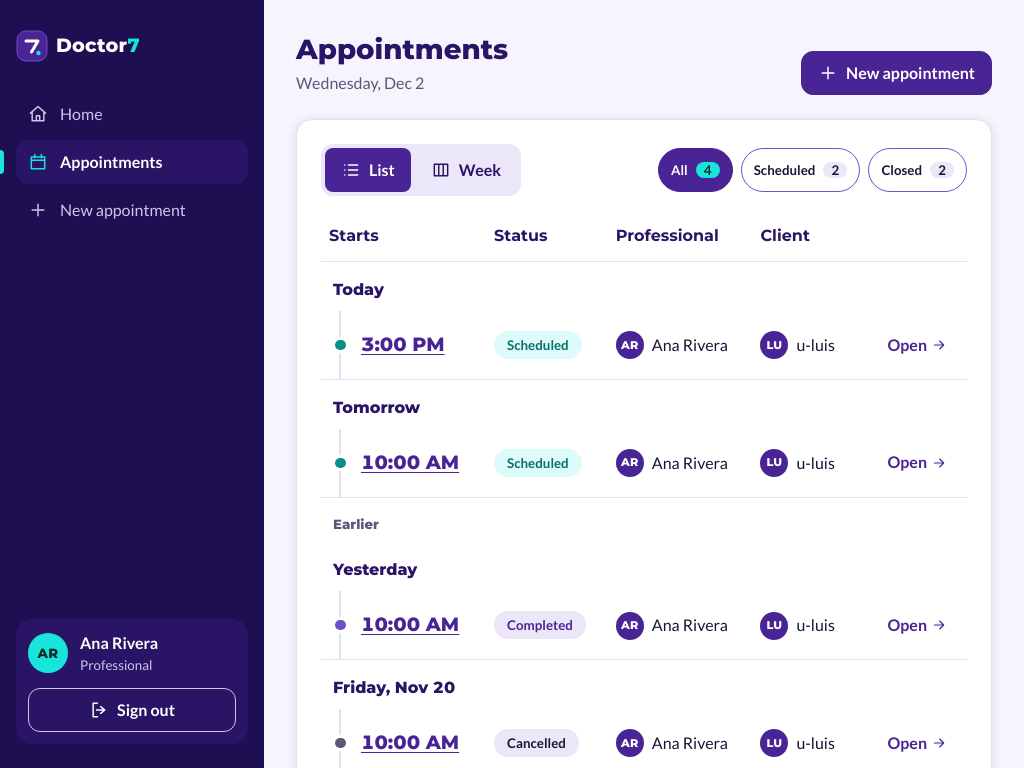
Appointments week view › moves between weeks and back to this week
Click the button "Week": (466, 170) [415,148,517,192]
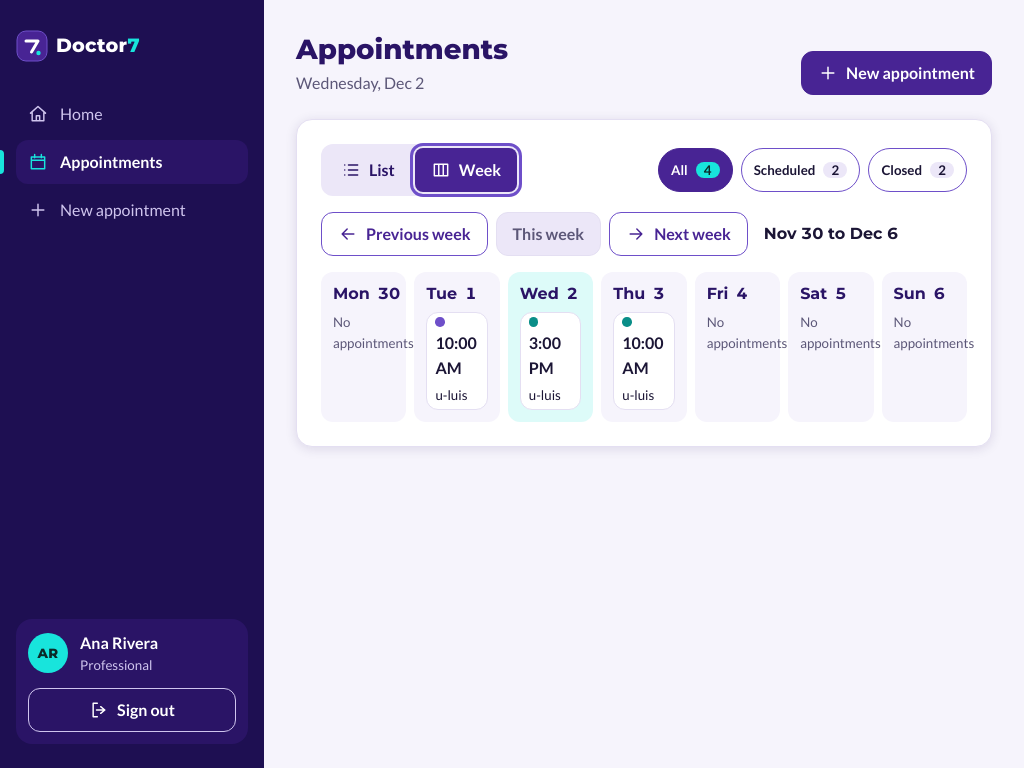
Expected: the button "This week" is disabled, [496,212,601,256]
Click the button "Next week": (679, 234) [609,212,748,256]
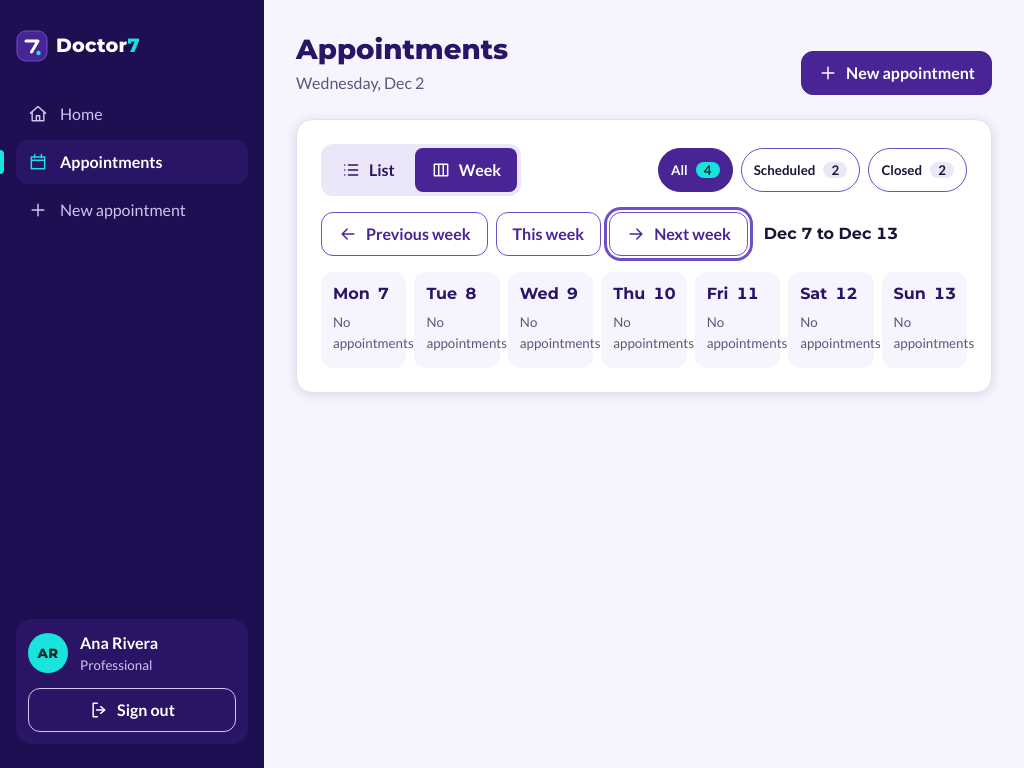
Expected: the text "Dec 7 to Dec 13" is shown, [764,222,898,247]
Expected: the text "No appointments" is shown 7 times
Expected: the button "This week" is enabled, [496,212,601,256]
Click the button "Previous week": (404, 234) [321,212,488,256]
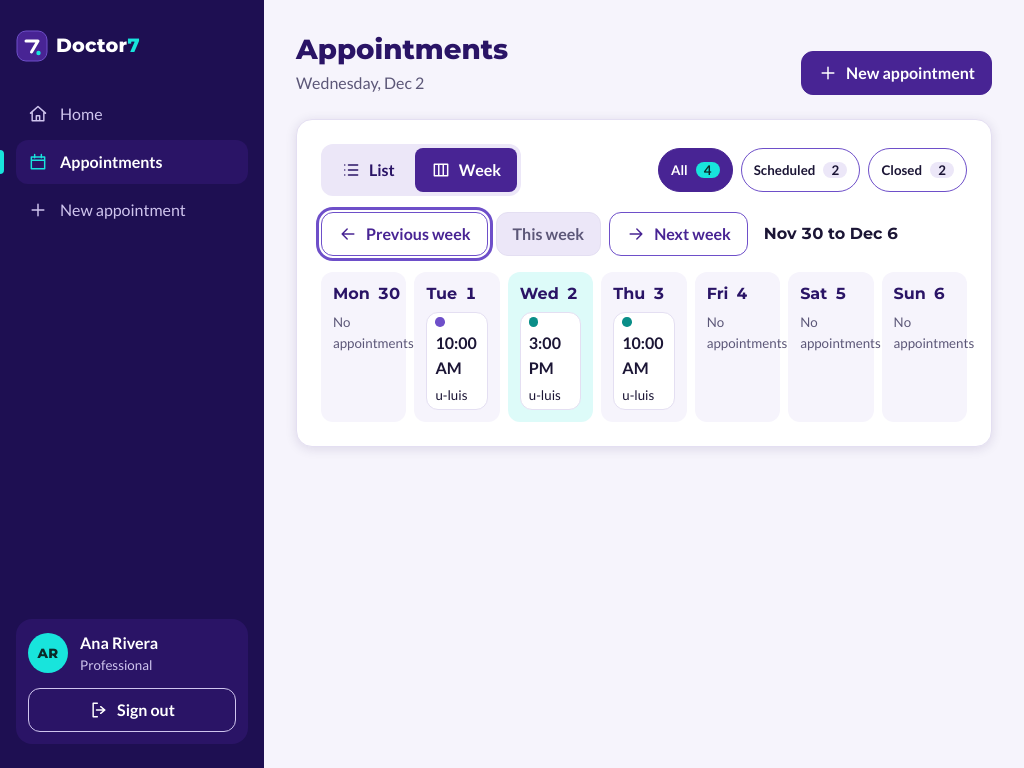
Click the button "Previous week": (404, 234) [321,212,488,256]
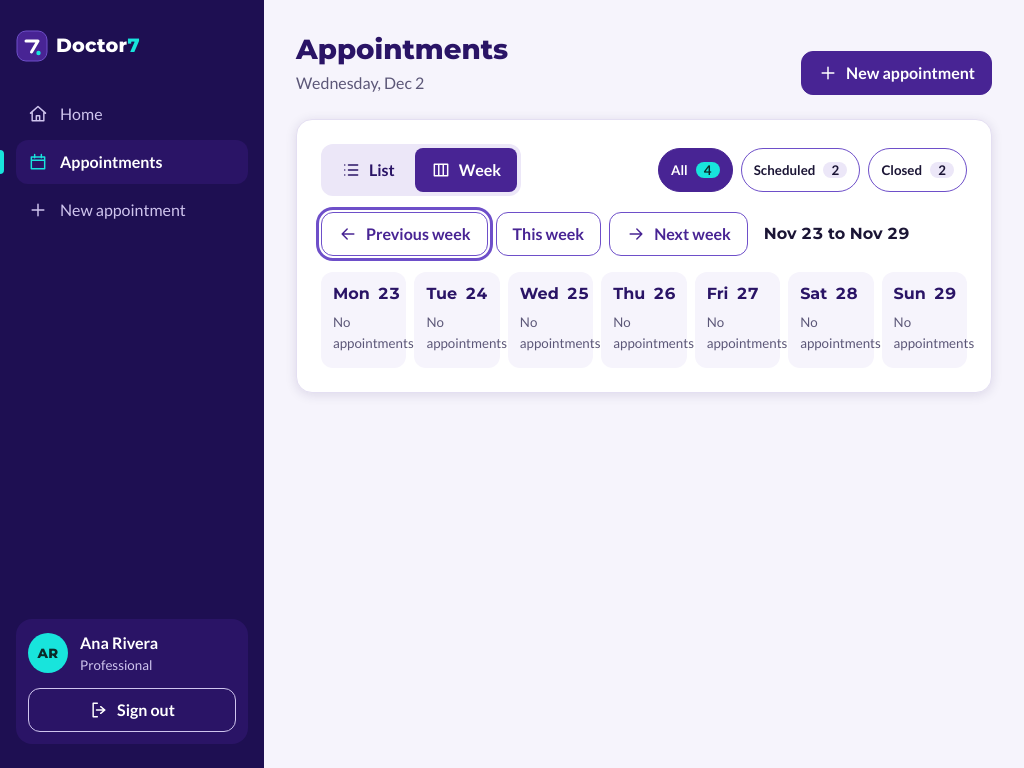
Expected: the text "Nov 23 to Nov 29" is shown, [764,222,910,247]
Click the button "This week": (548, 234) [496,212,601,256]
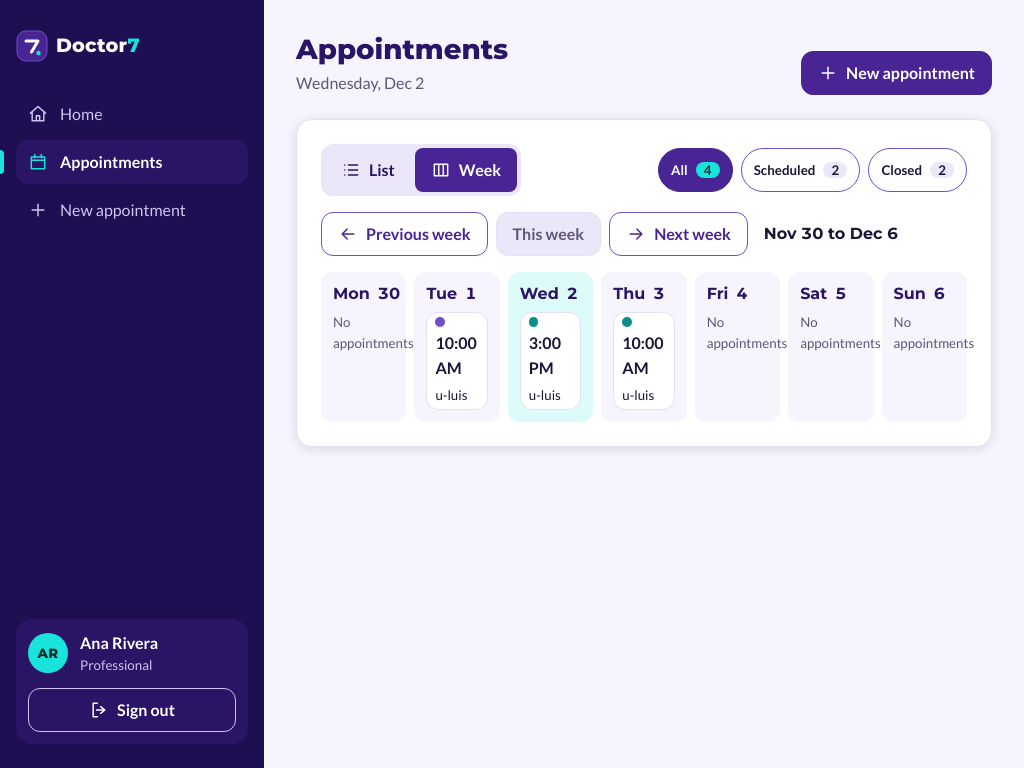
Expected: the text "Nov 30 to Dec 6" is shown, [764,222,898,247]
Expected: the button "This week" is disabled, [496,212,601,256]
